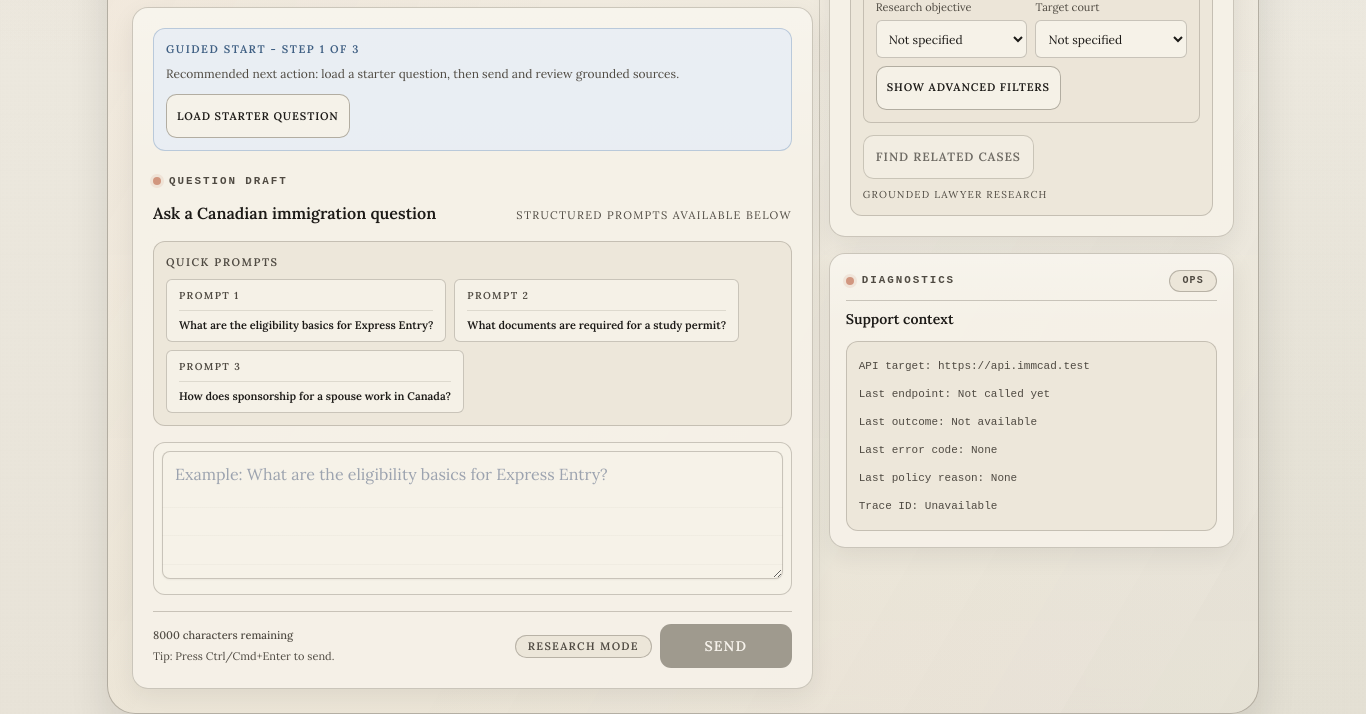
Test: chat shell ui › exposes accessibility landmarks and enables case search after chat success
The image size is (1366, 714).
(page scrolled)
Expected: the button "Find related cases" is disabled, left=863, top=135, right=1034, bottom=179
Expected: the element named "Quick prompts" is shown, left=166, top=279, right=779, bottom=413
Type "Show me guidance on study permit documents." into the text box labelled "Ask a Canadian immigration question". click: (472, 515)
box: left=162, top=451, right=783, bottom=579
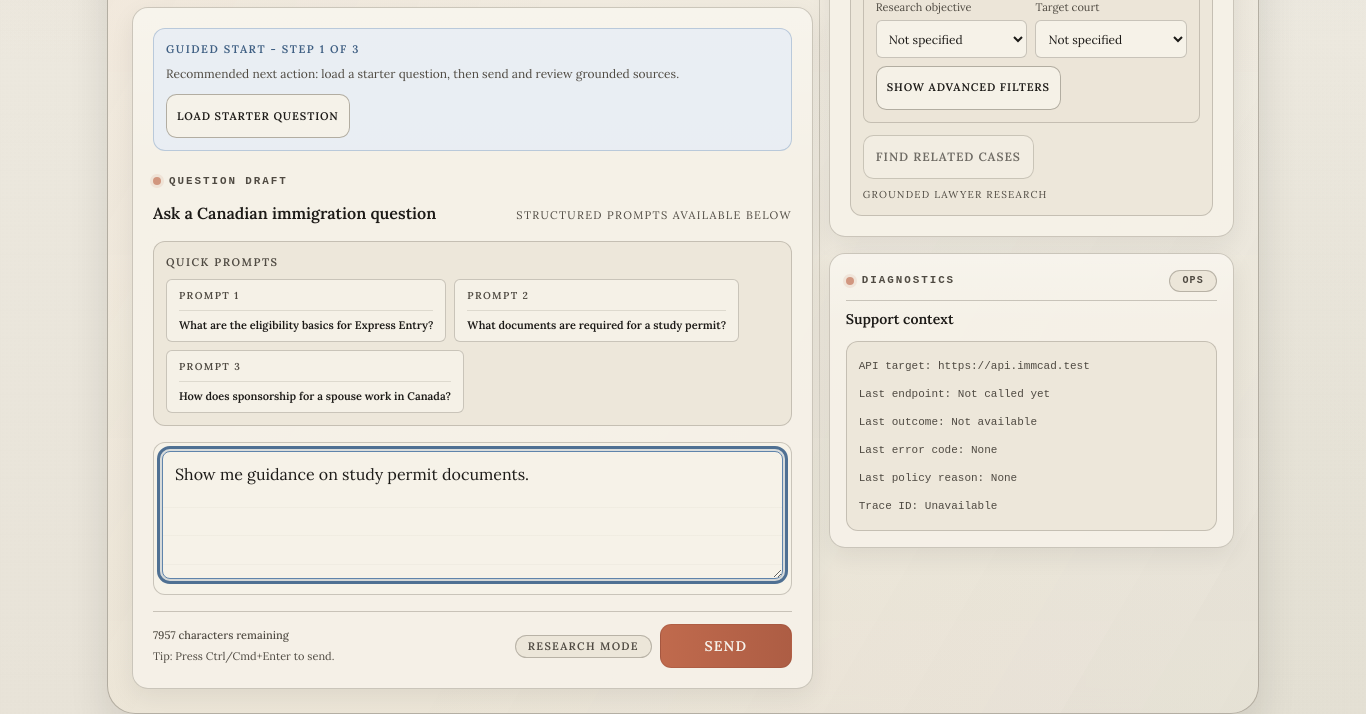
Click the button "Send". click: (726, 646)
box: left=660, top=624, right=792, bottom=668
(page scrolled)
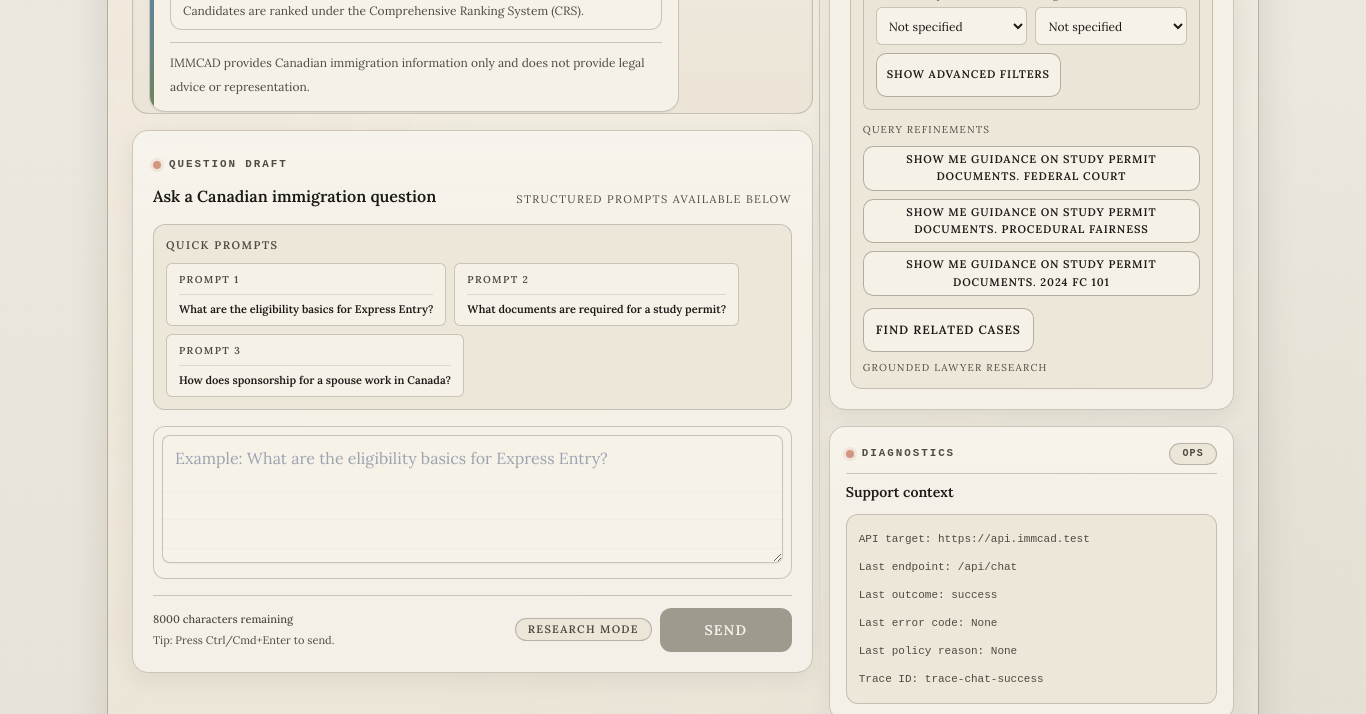
Expected: the button "Find related cases" is enabled
Click the button "Find related cases". click: (948, 330)
box: left=863, top=308, right=1034, bottom=352
(page scrolled)
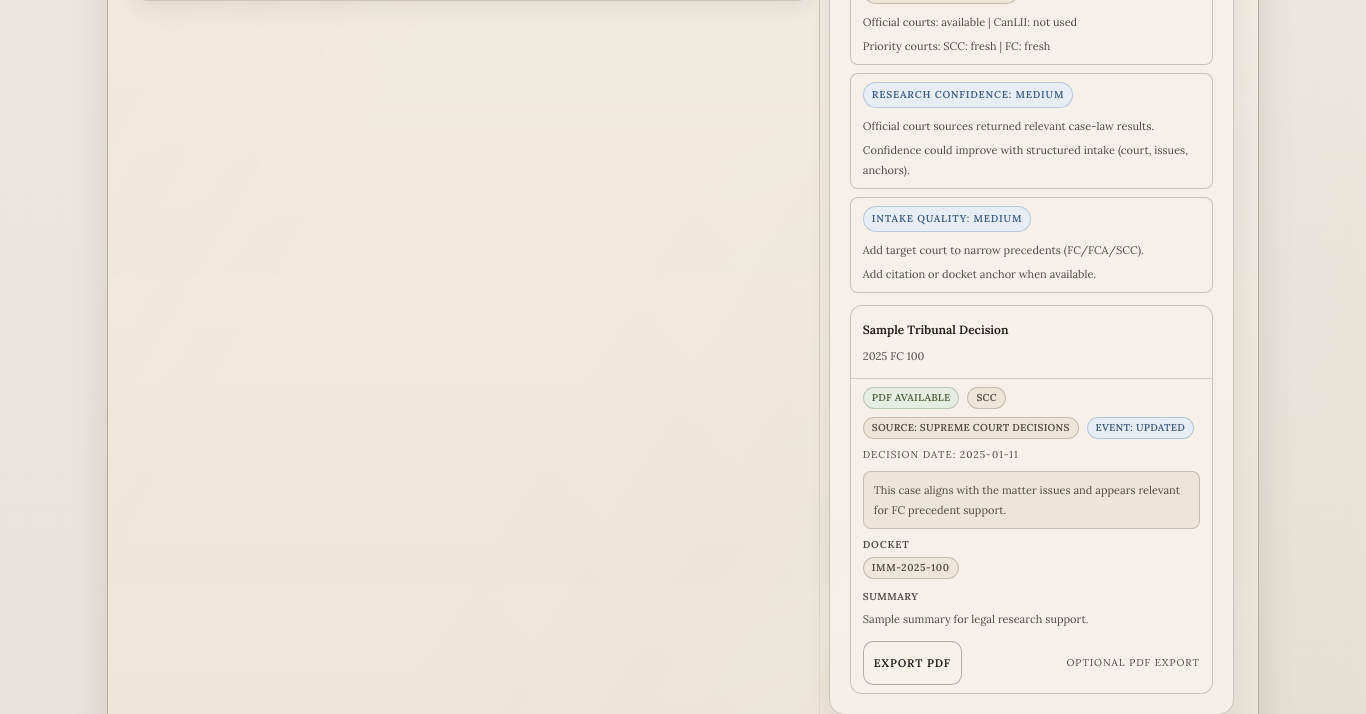
Expected: the link "Sample Tribunal Decision" is shown, left=863, top=322, right=1009, bottom=337
